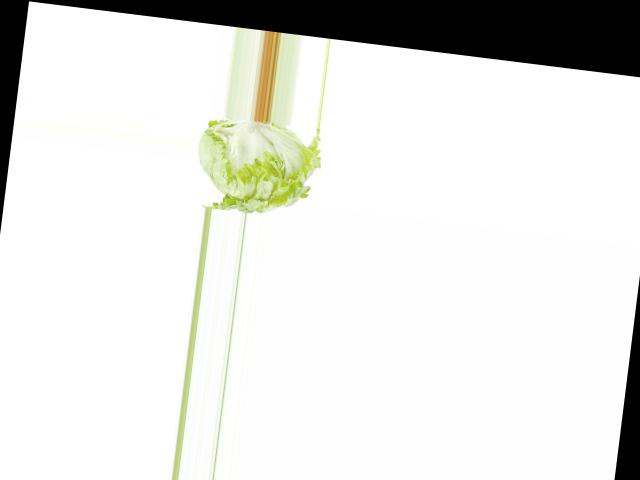lettuce: (187, 113, 329, 221)
